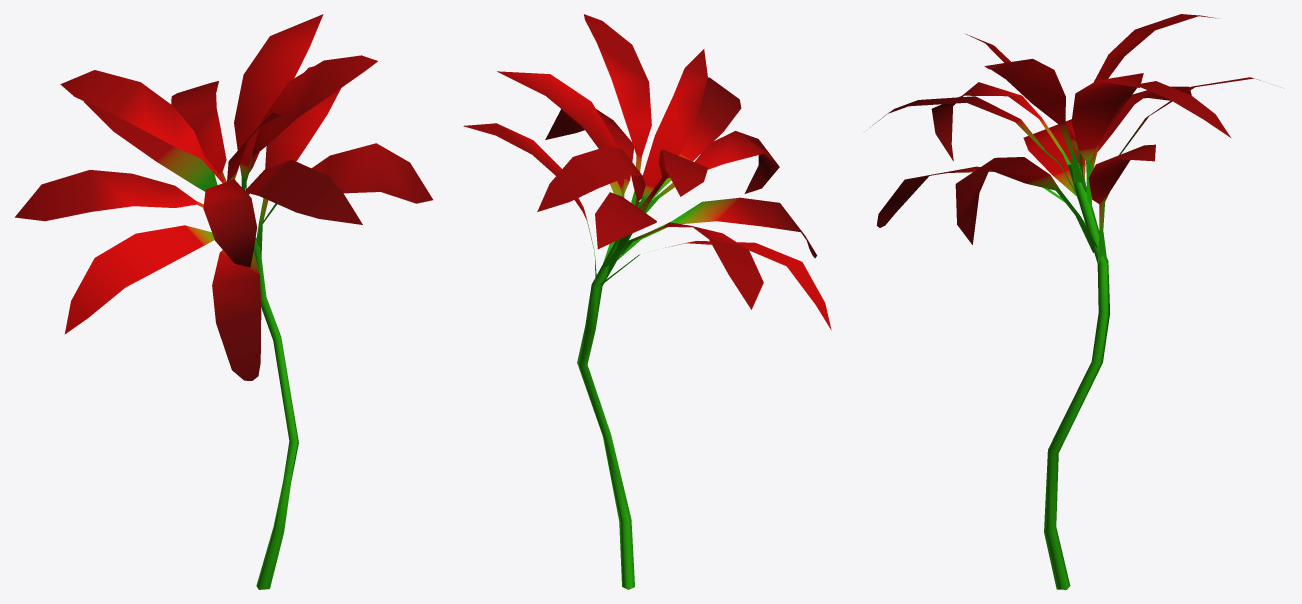
File: Var3_LOD2.fbx
The picture shows the model from 3 angles, left to right: view 1: azimuth 30°, elevation 25°; view 2: azimuth 150°, elevation 25°; view 3: azimuth 270°, elevation 25°; orthographic projection. The views are drawn at different scales.
Visible parts, largest first — view 1: _77bf_Var3_LOD2; view 2: _77bf_Var3_LOD2; view 3: _77bf_Var3_LOD2.
Boxes of the visible parts, x1=… form: _77bf_Var3_LOD2: x1=14, y1=14, x2=432, y2=589; _77bf_Var3_LOD2: x1=463, y1=14, x2=831, y2=589; _77bf_Var3_LOD2: x1=866, y1=14, x2=1260, y2=589.
Bounding box in the file's own units: 38.82 × 60.28 × 41.65.
